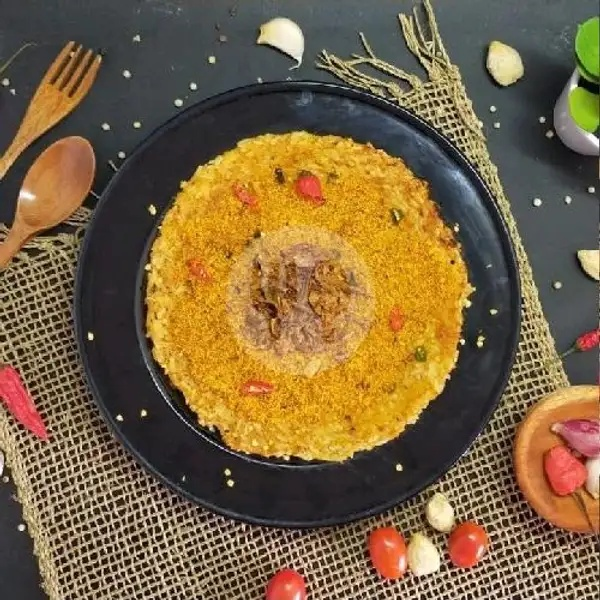kerak_telor: (140, 129, 470, 461)
